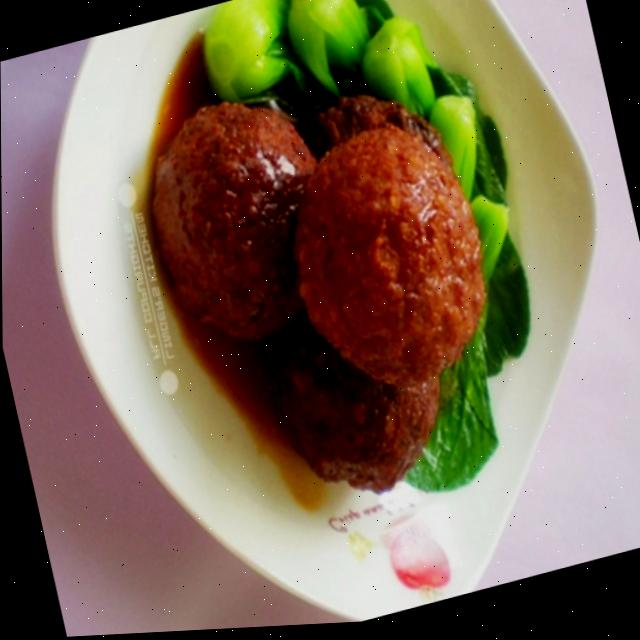猪肉菜式: (37, 0, 640, 632)
